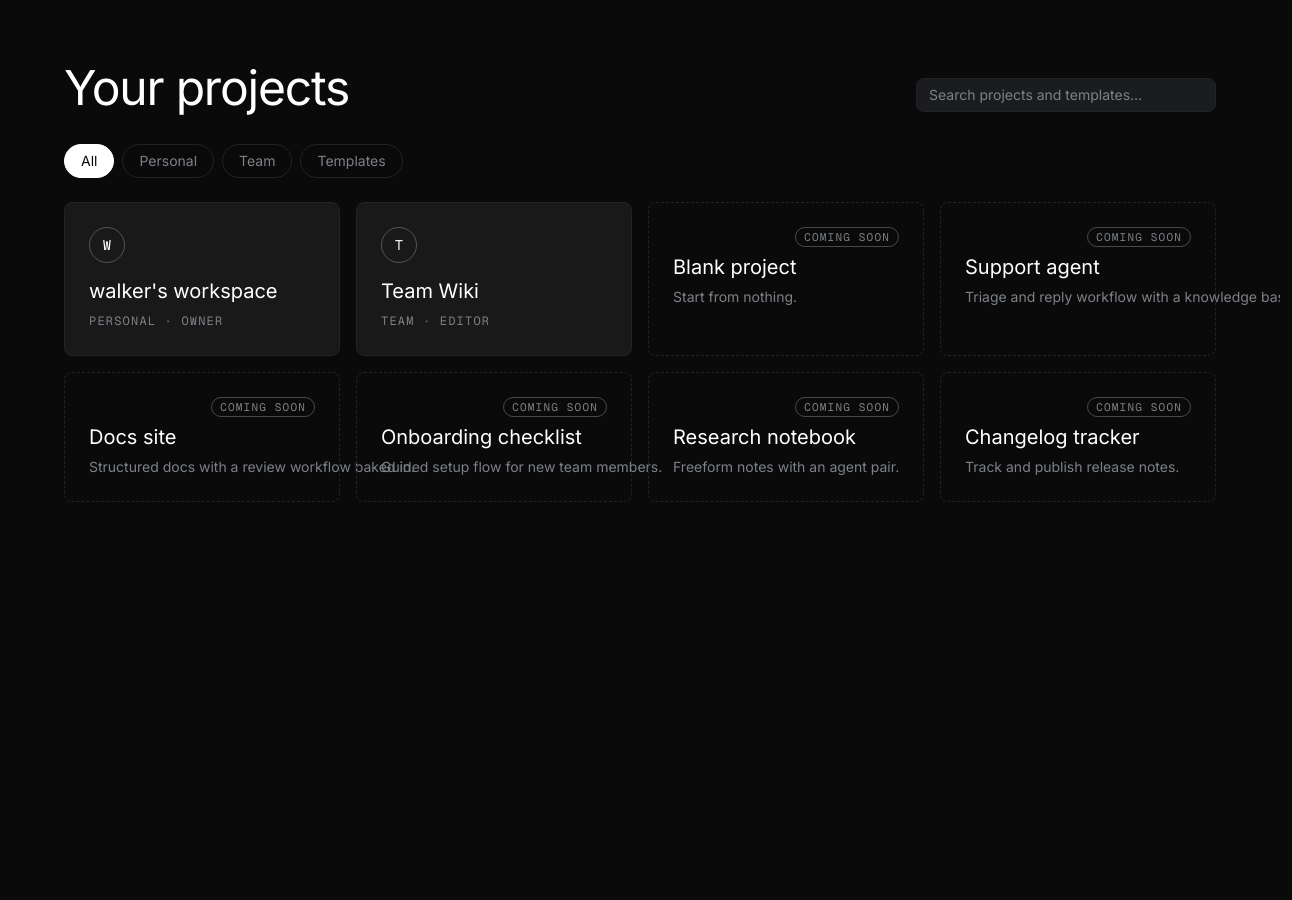
Test: the projects home › opens a workspace when its card is clicked
The image size is (1292, 900).
Click the button "W walker's workspace personal · owner" at (202, 279), box [64,202,340,356]
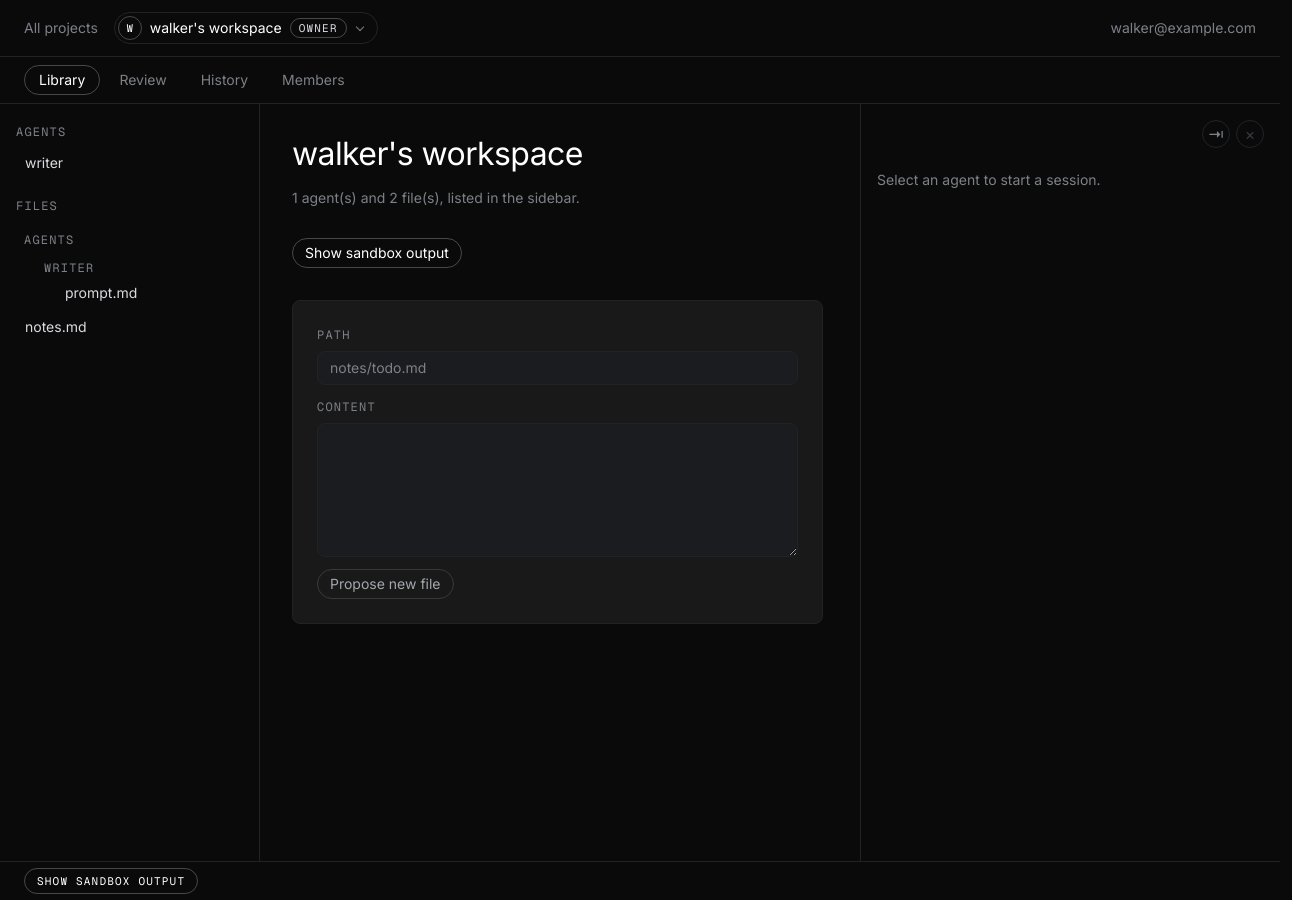
Result: the text "walker's workspace" is shown at [150,18,282,38]
